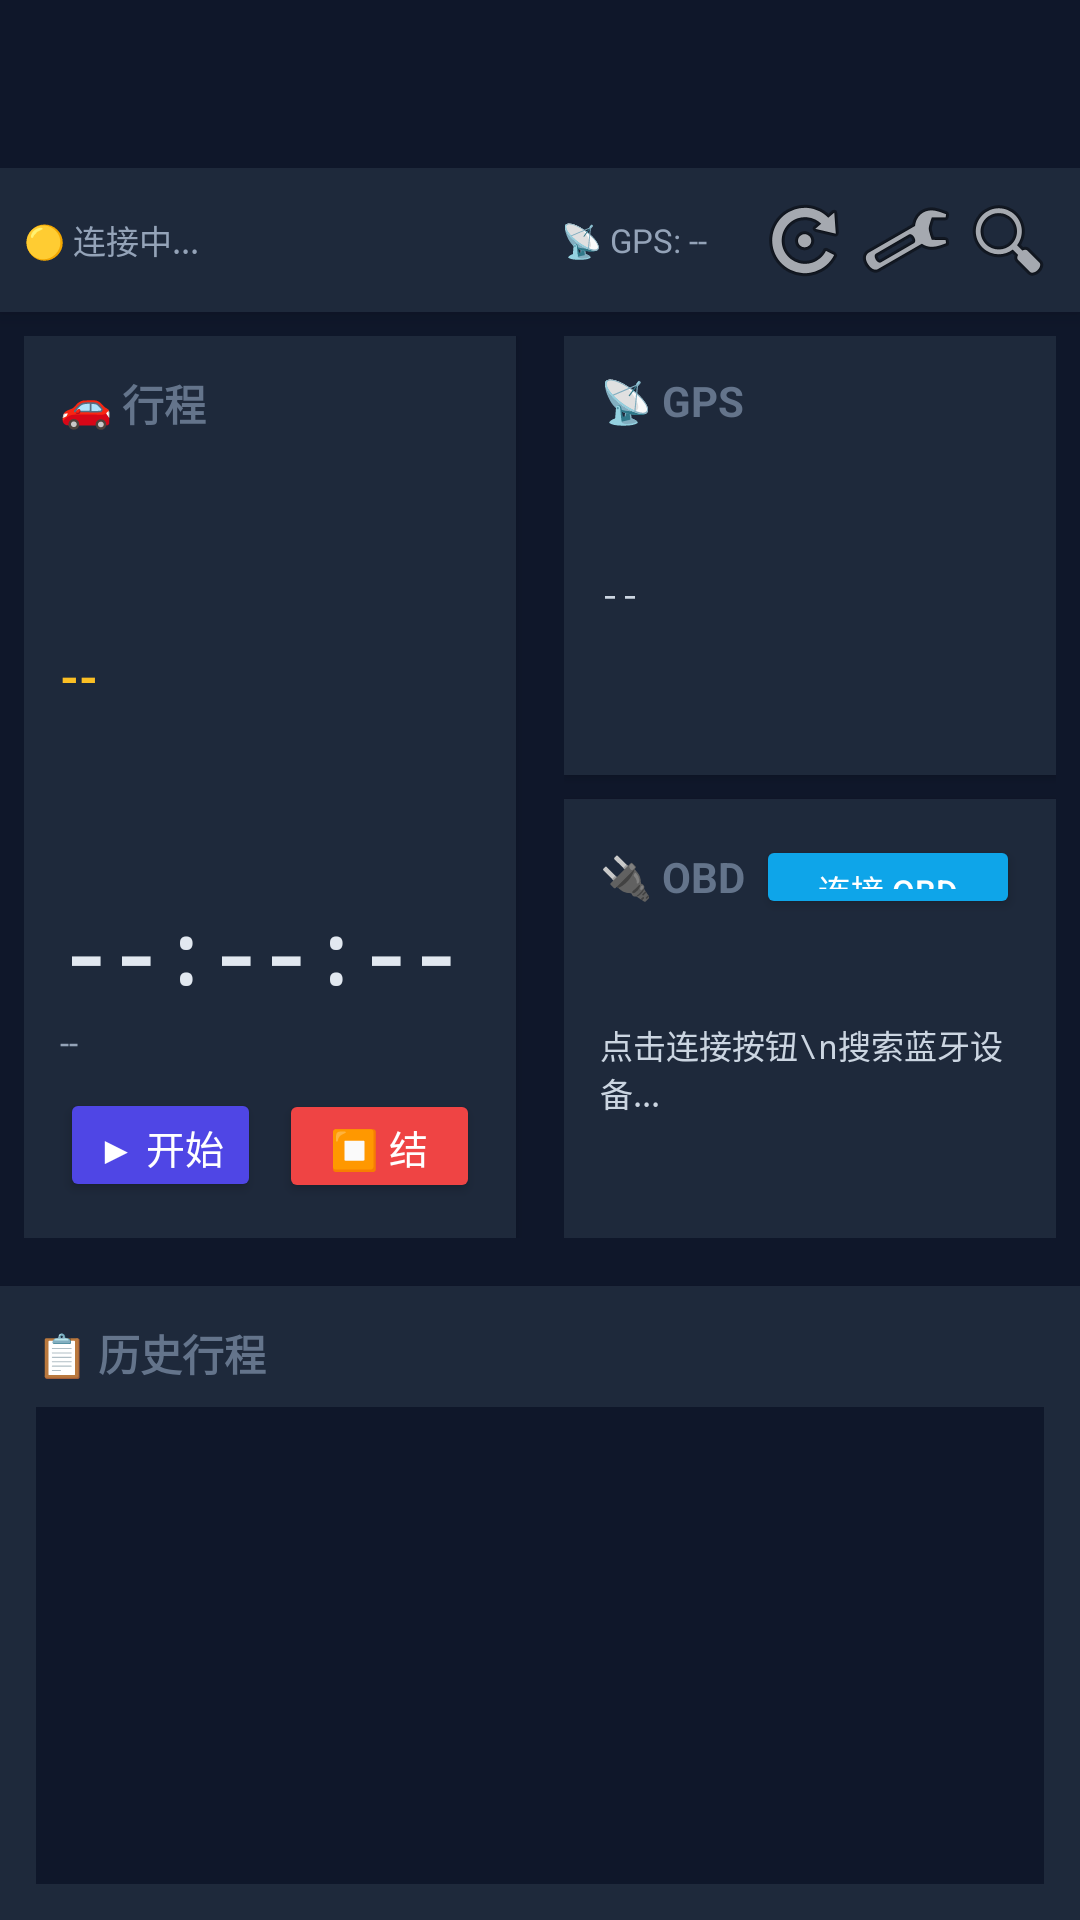

Where to tap for icons on this 1080 x 1920 app screen, as [x,y]:
刷新: [804,240]
设置: [905,240]
